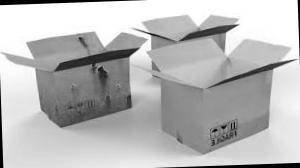cardboard: (138, 35, 299, 151), (7, 17, 150, 135)
